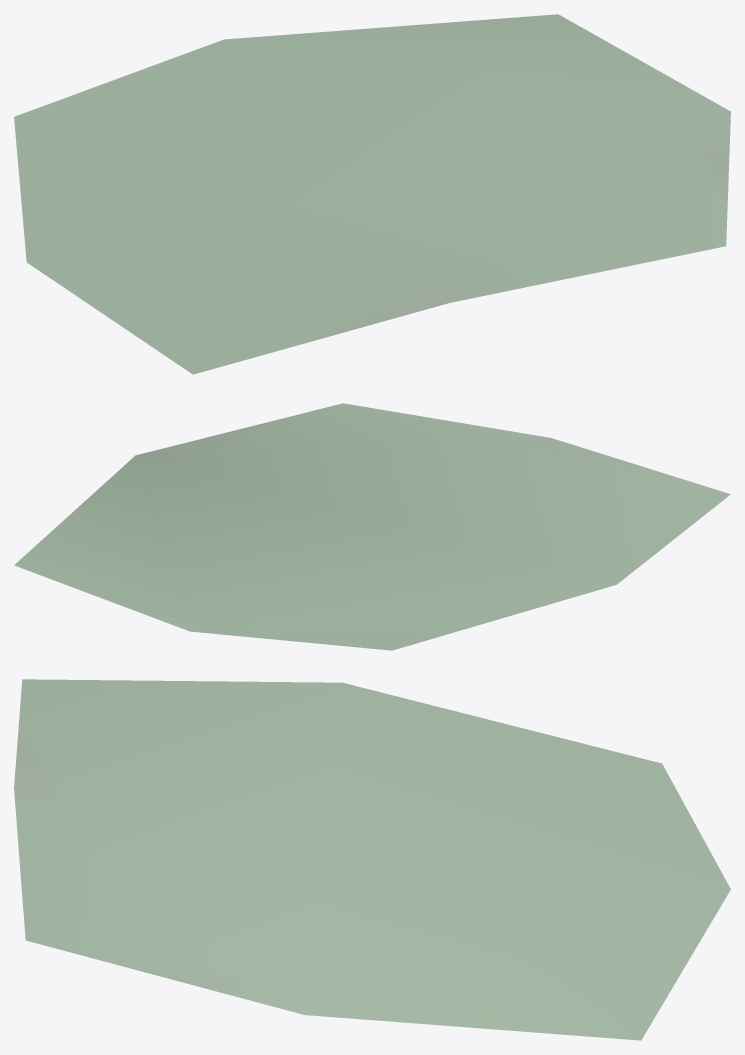
Rendered from TROLLHOLE02_HOLECAP141.fbx.
3 renders of one model, top to bottom at view 1: azimuth 30°, elevation 25°; view 2: azimuth 150°, elevation 25°; view 3: azimuth 270°, elevation 25°, orthographic. The views are drawn at different scales.
Visible parts, largest first — view 1: TROLLHOLE02_HOLECAP141; view 2: TROLLHOLE02_HOLECAP141; view 3: TROLLHOLE02_HOLECAP141.
Boxes of the visible parts, x1,y1,x2,y2 form: TROLLHOLE02_HOLECAP141: (14, 14, 730, 374); TROLLHOLE02_HOLECAP141: (14, 403, 730, 650); TROLLHOLE02_HOLECAP141: (14, 679, 730, 1040).
Size of the model in its own units: 28070 by 1869 by 25758.
Materials: 1 (1 with a texture image).
